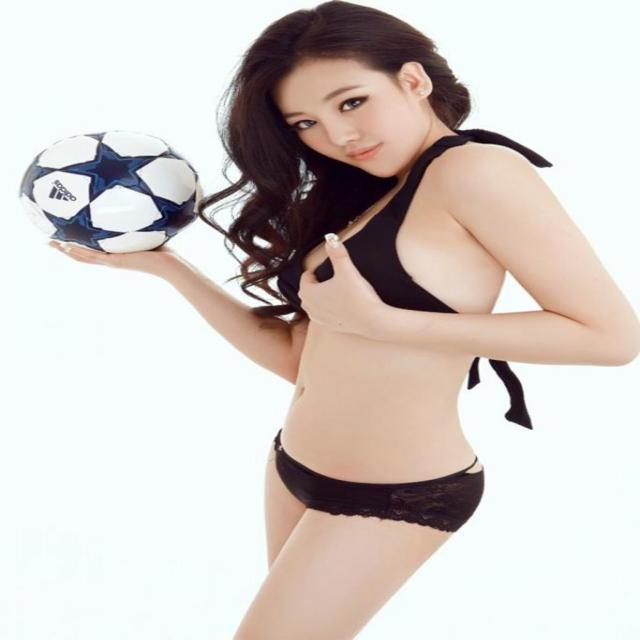ball: (18, 131, 204, 254)
